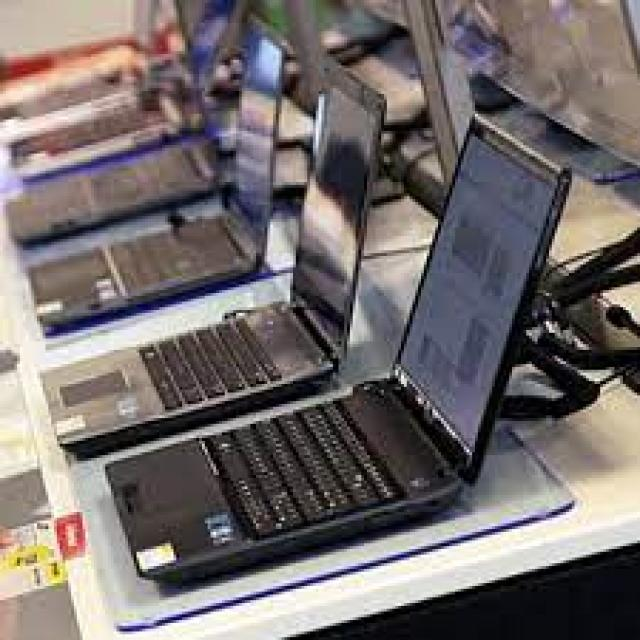others: (3, 3, 631, 631)
